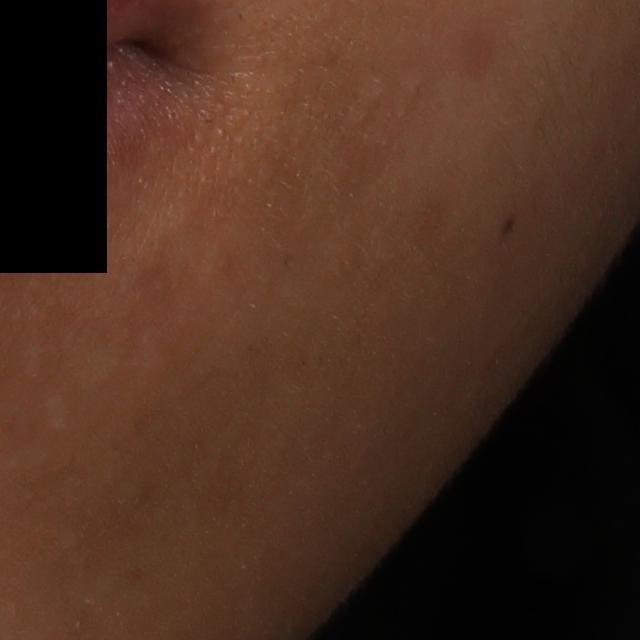nevus: (497, 211, 518, 239)
